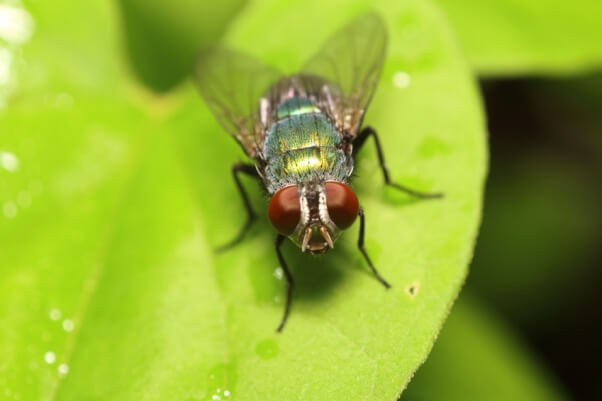green bottles flies: (175, 10, 447, 327)
